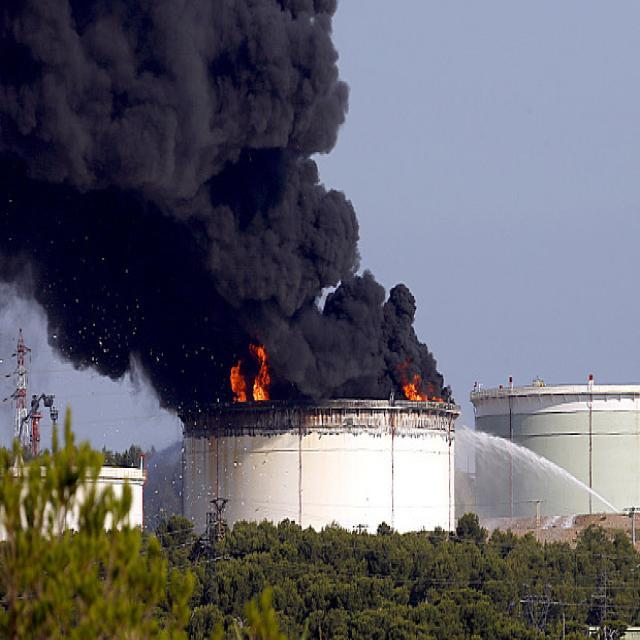Smoke: (0, 0, 455, 408)
